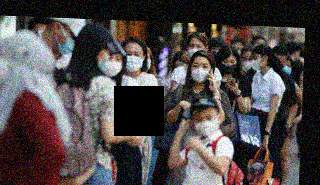with_mask: (56, 26, 78, 57), (193, 114, 219, 138), (102, 54, 124, 77), (190, 61, 212, 83), (124, 49, 144, 72), (186, 42, 206, 60), (220, 58, 238, 74), (252, 55, 265, 71), (241, 56, 253, 70), (283, 63, 293, 75)
